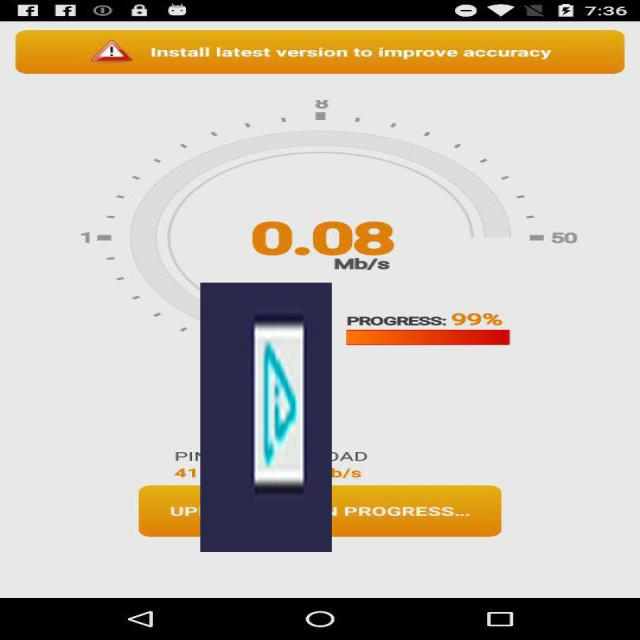sneaking: (200, 283, 332, 552)
